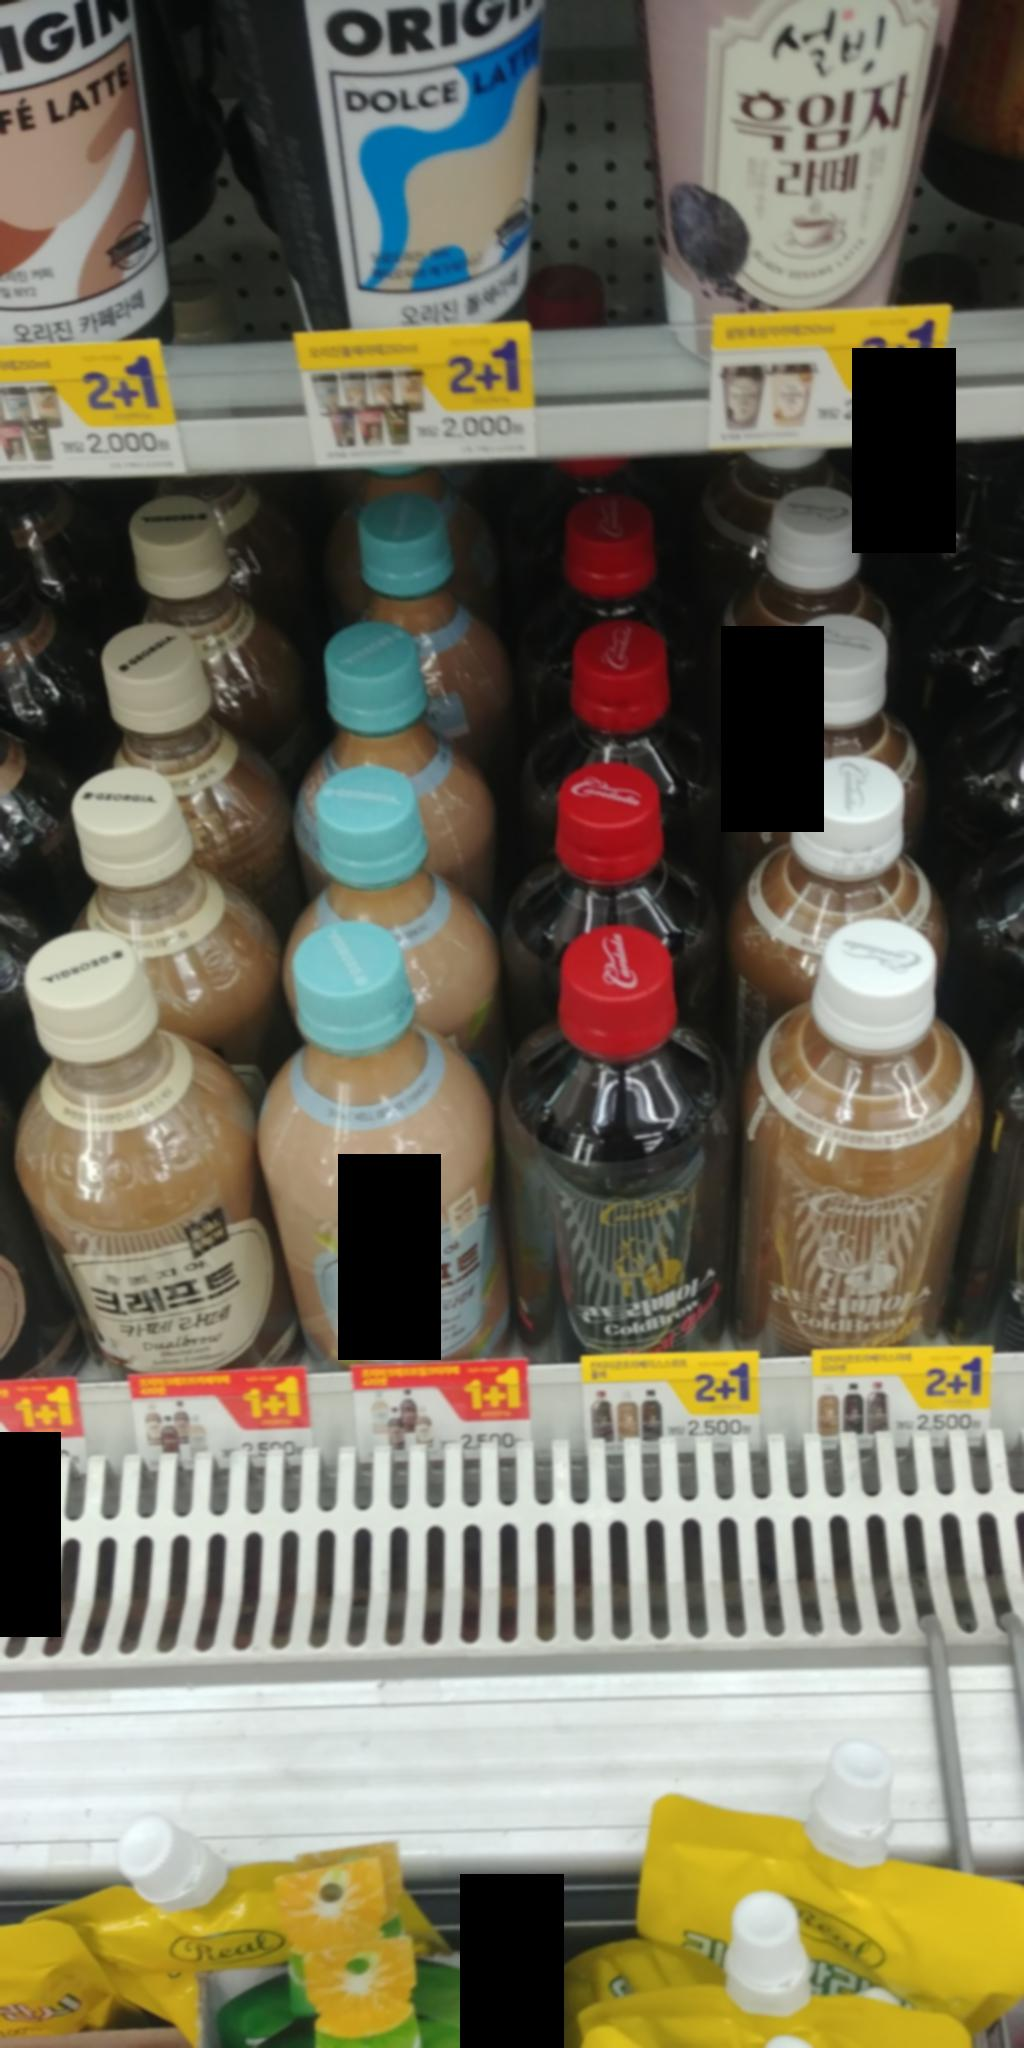contrabass_sweetblack: (483, 918, 744, 1356)
